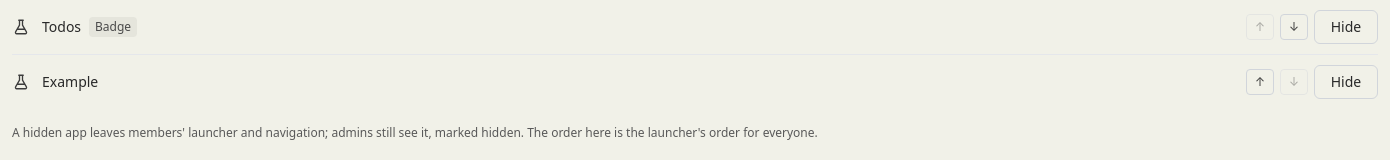
Test: AppsCard › hides an app with a PATCH and marks it hidden
Click the button with aria-label "Hide Example" at (1346, 82), box [1314,65,1378,99]
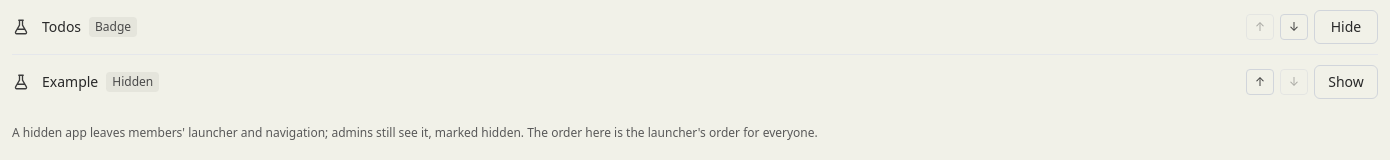
Check: the button with aria-label "Show Example" is shown, box [1314,65,1378,99]
Check: the list item "Example Hidden ↑ ↓ Show" is shown, box [12,55,1378,109]
